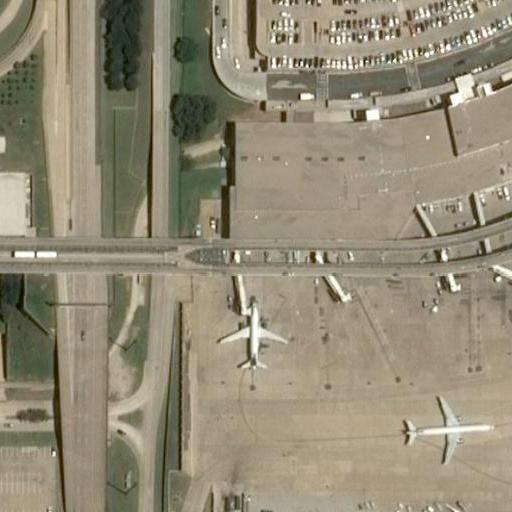Aircraft: (404, 395, 491, 466), (215, 303, 290, 371)
